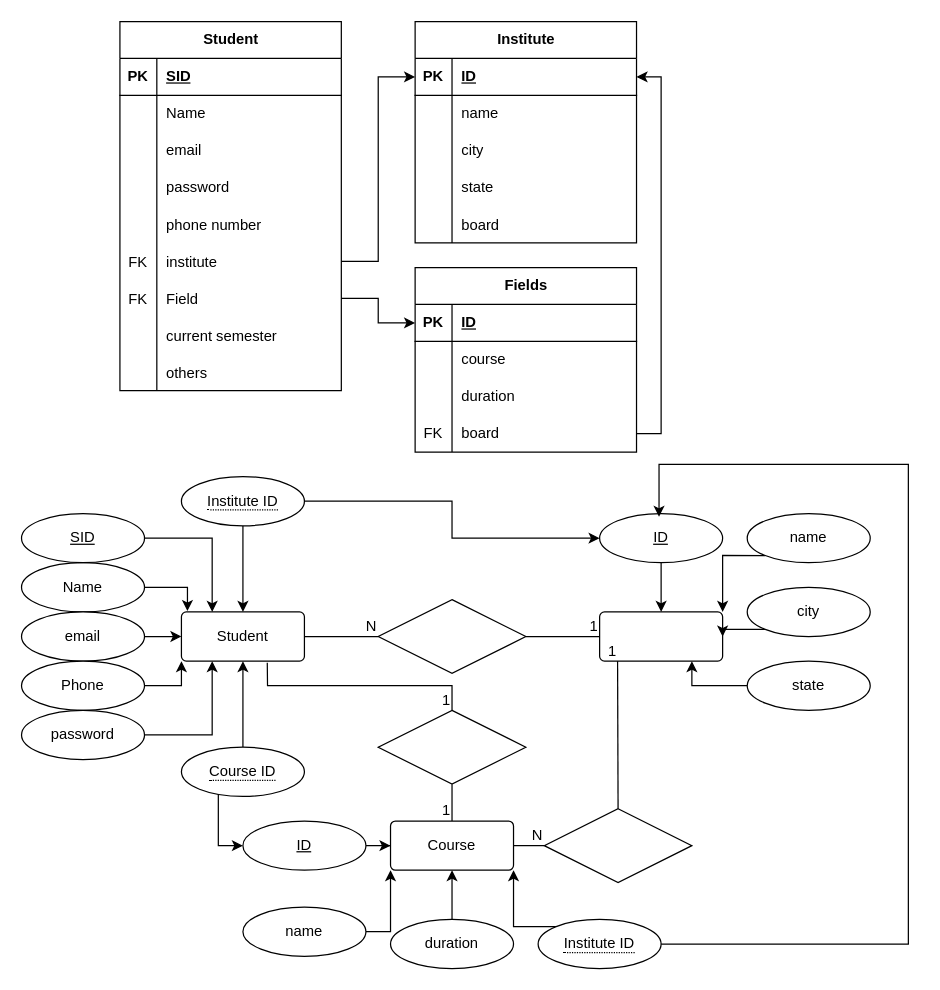
Image size: 940x990. Some labels were removed from this diagram. The shapes that lost their labels are listed below. From the top down, each one's centre as x and y in pixels, then its label:
At [451,635]: "Goes to".
At [660,636]: "Institue".
At [451,746]: "learns".
At [617,845]: "teached by".
